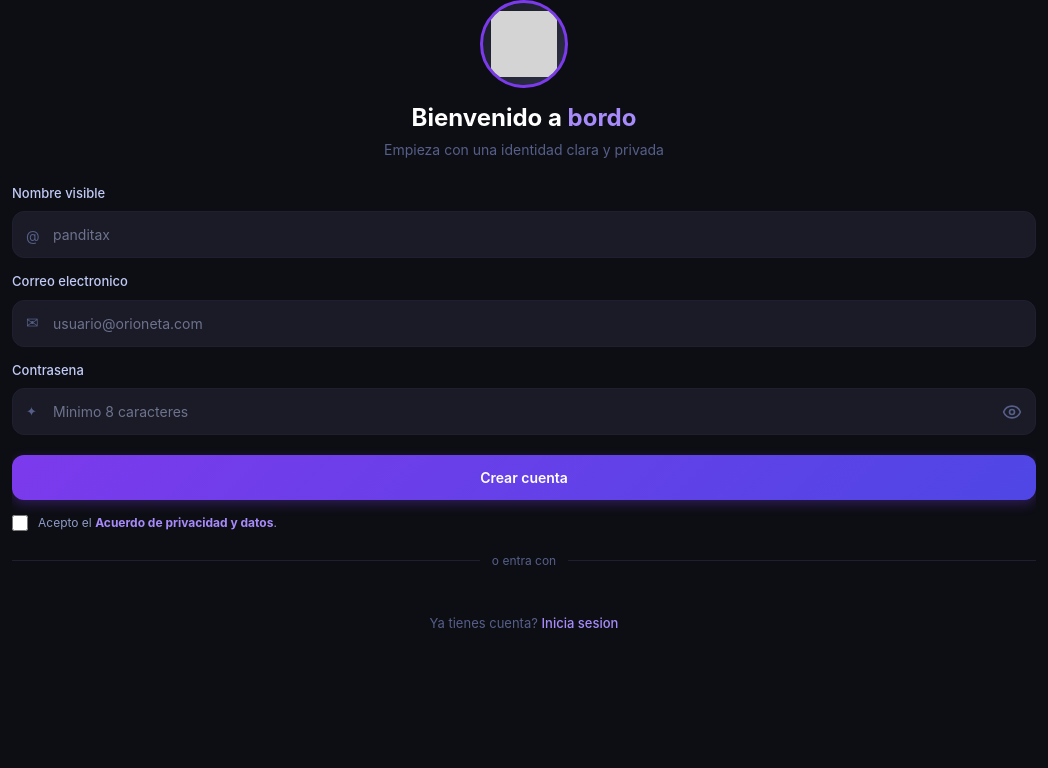
Test: RegisterPage › requires privacy acceptance
Type "Test User" into the field with placeholder "panditax" at coordinates (524, 235), box [12,211,1036,258]
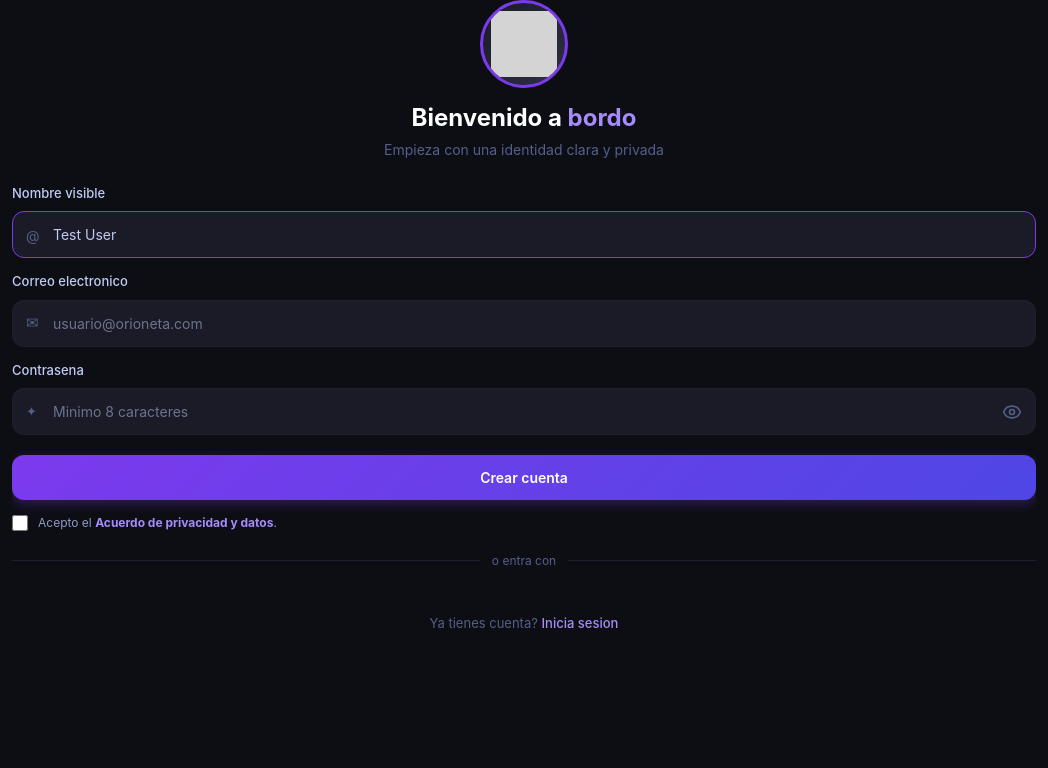
Type "test@test.com" into the field with placeholder "usuario@orioneta.com" at coordinates (524, 323), box [12,300,1036,347]
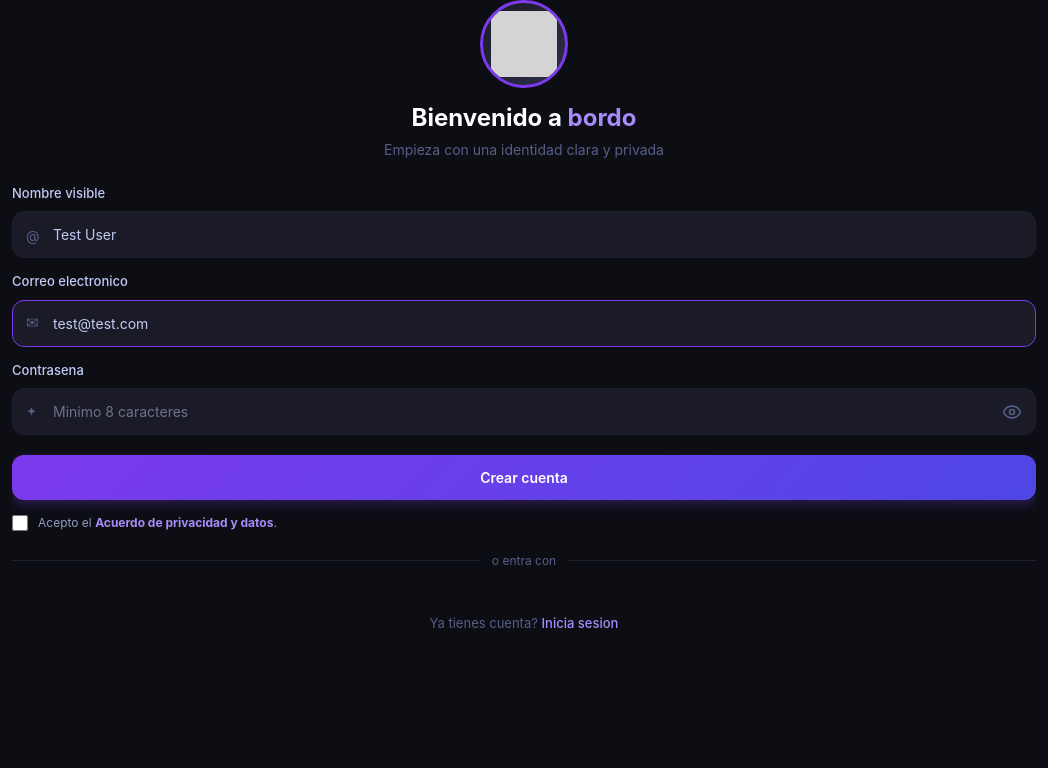
Type "password123" into the password field with placeholder "Minimo 8 caracteres" at coordinates (524, 412), box [12,388,1036,435]
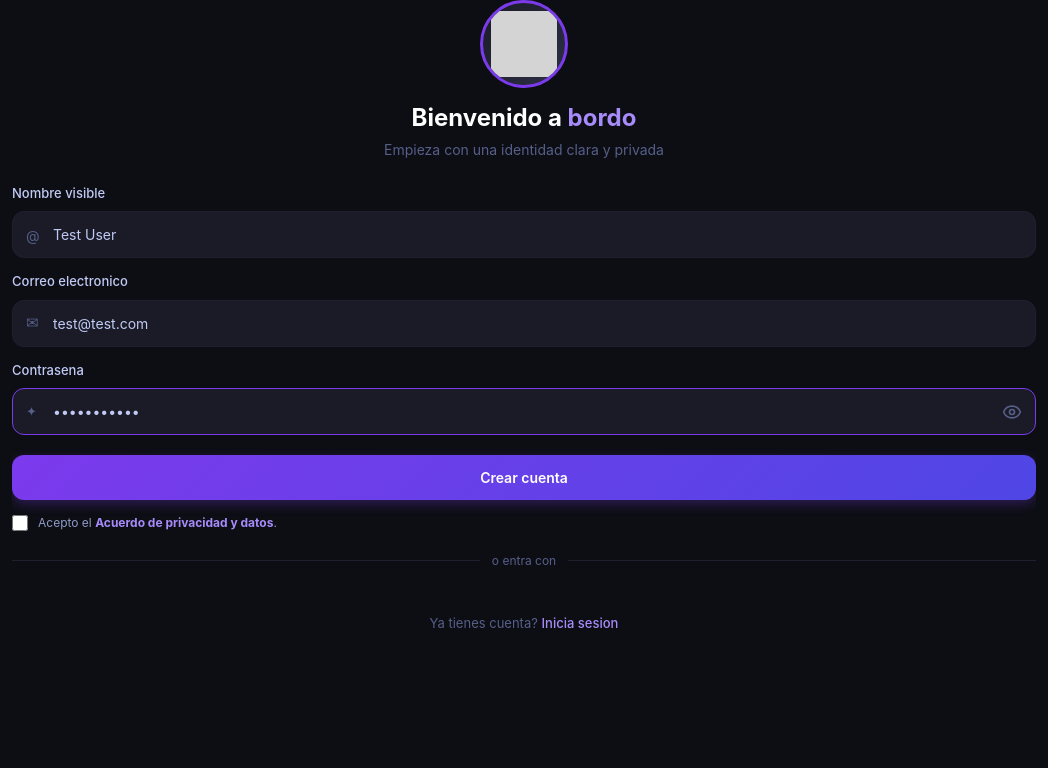
Click the button "Crear cuenta" at coordinates (524, 478), box [12,455,1036,500]
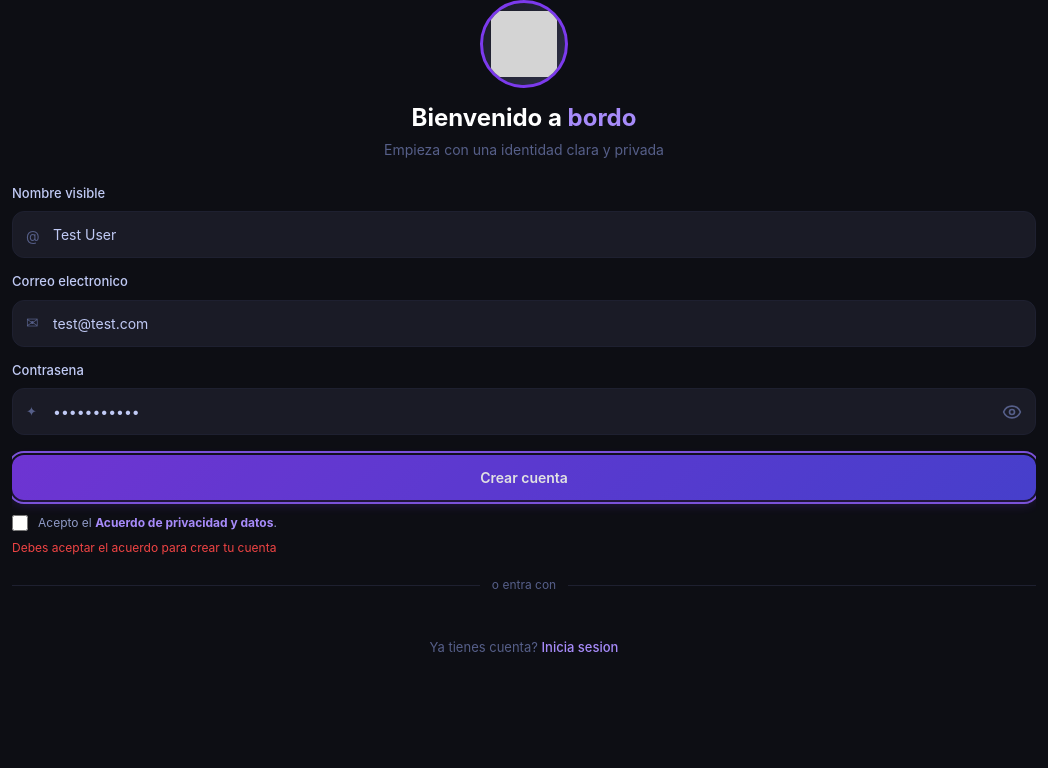
Now the text "Debes aceptar el acuerdo para crear tu cuenta" is shown, box [12,540,276,555]
